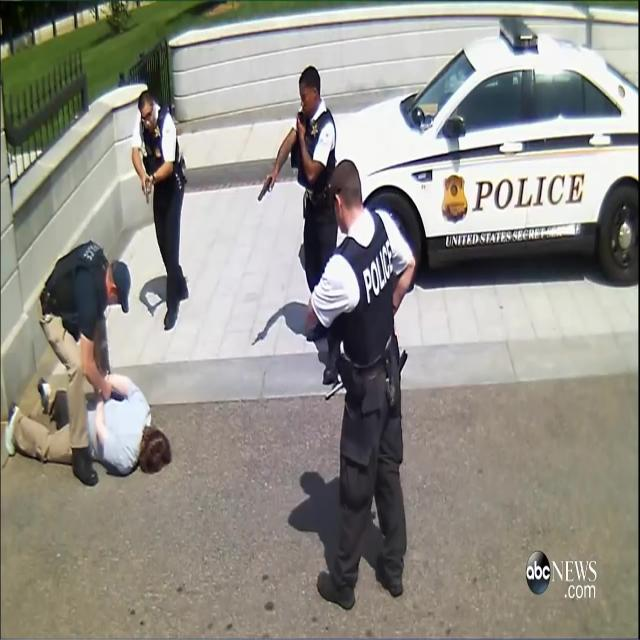Weapon: (249, 149, 293, 221), (98, 367, 134, 419), (135, 169, 165, 219), (326, 377, 351, 420)
